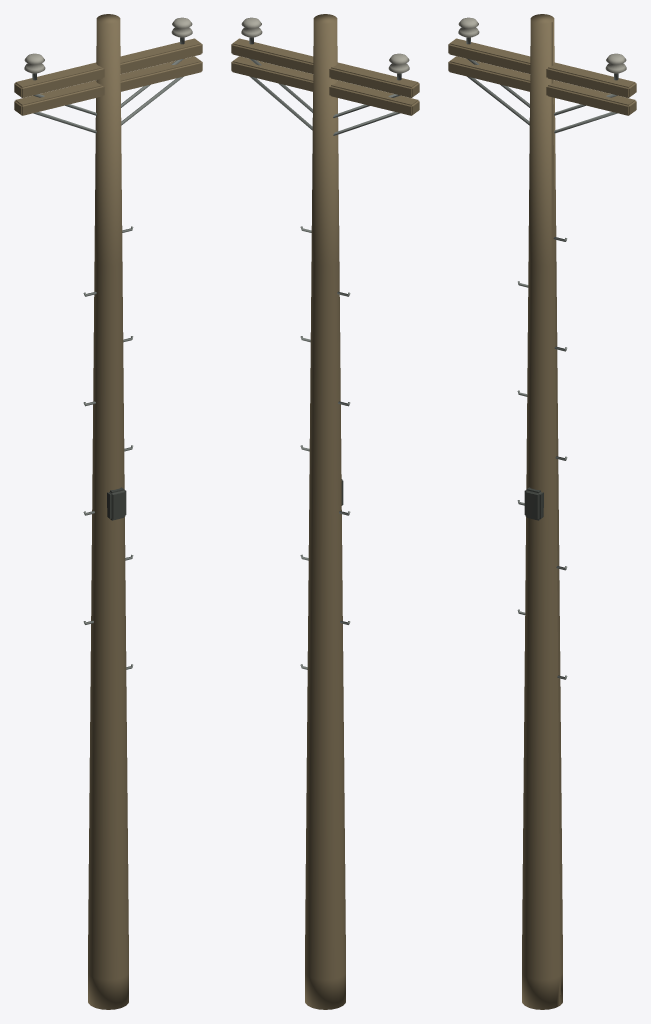
The model's file is garden-utility-pole.glb.
The picture shows the model from 3 angles, left to right: view 1: azimuth 30°, elevation 25°; view 2: azimuth 150°, elevation 25°; view 3: azimuth 330°, elevation 25°; orthographic projection.
Parts seen in each view (by area): view 1: Frame; view 2: Frame; view 3: Frame.
Part boxes in pixels (bbox=[...]): Frame: bbox=[14, 14, 202, 1009]; Frame: bbox=[231, 14, 419, 1009]; Frame: bbox=[448, 14, 636, 1009].
Size of the model in its own units: 1.39 by 7.18 by 0.2809.
